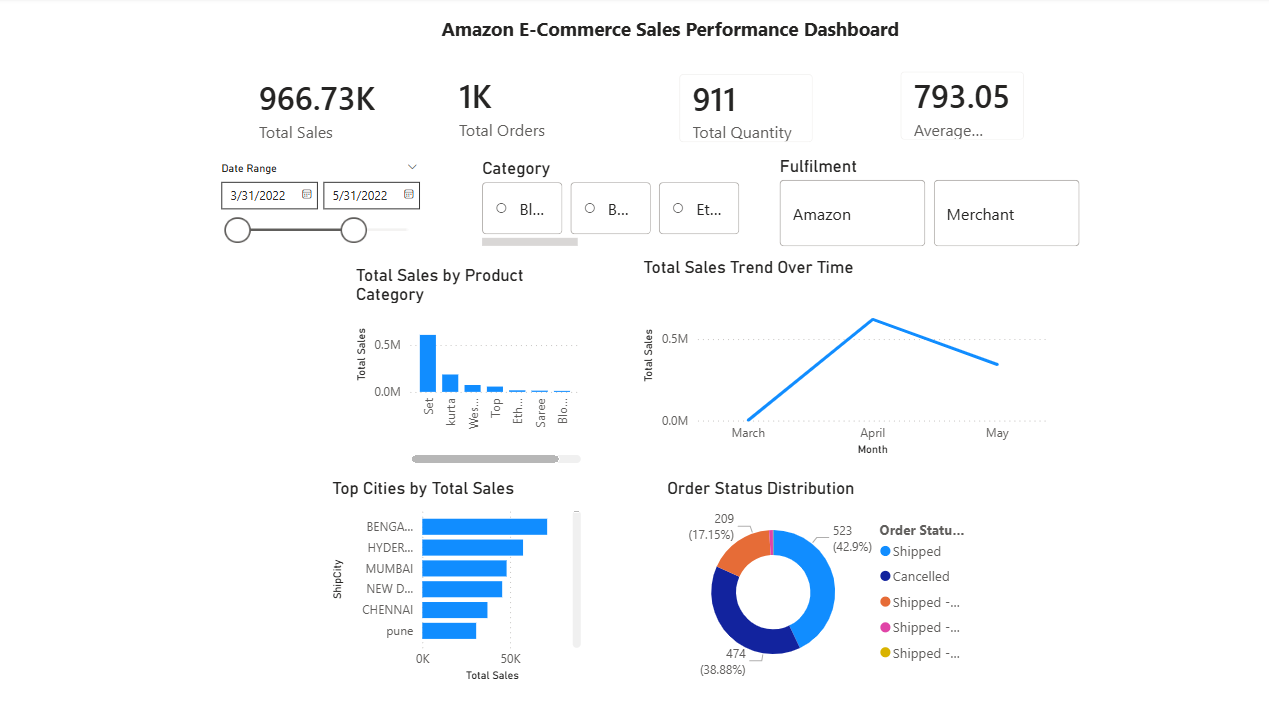

Layout of this report page (visuals, bound fields, positions):
{"tool":"powerbi","page":{"name":"Page 1","canvas":[1280,720],"ordinal":0},"visuals":[{"type":"clusteredColumnChart","title":"Total Sales by Product Category","fields":{"Category":["Amazon Sale Report.Category"],"Y":["Amazon Sale Report.Total Sales"]},"box":[353.3,266.2,233.9,202.8],"z":1000},{"type":"lineChart","title":"Total Sales Trend Over Time","fields":{"Y":["Amazon Sale Report.Total Sales"],"Category":["Amazon Sale Report.Date.Variation.Date Hierarchy.Month"]},"box":[639.4,258.7,411.8,202.8],"z":2000},{"type":"donutChart","title":"Order Status Distribution","fields":{"Category":["Amazon Sale Report.Status"],"Y":["Amazon Sale Report.Total Orders"]},"box":[663,478.9,312.2,207.7],"z":4000},{"type":"textbox","box":[431.7,13.7,478.9,47.3],"z":5000},{"type":"slicer","fields":{"Values":["Amazon Sale Report.Date"]},"box":[211.5,159.2,220.2,94.5],"z":6002},{"type":"advancedSlicerVisual","fields":{"Values":["Amazon Sale Report.Category"]},"box":[478.9,160.5,268.7,94.5],"z":6003},{"type":"cardVisual","fields":{"Data":["Amazon Sale Report.Total Sales"]},"box":[232.6,59.7,192.8,103.2],"z":6004},{"type":"cardVisual","fields":{"Data":["Amazon Sale Report.Total Orders"]},"box":[431.7,57.2,155.5,104.5],"z":6005},{"type":"cardVisual","fields":{"Data":["Amazon Sale Report.Total Quantity"]},"box":[663,59.7,167.9,102],"z":6006},{"type":"cardVisual","fields":{"Data":["Amazon Sale Report.Average Order Value"]},"box":[883.2,57.2,158,102],"z":6007},{"type":"advancedSlicerVisual","fields":{"Values":["Amazon Sale Report.Fulfilment"]},"box":[775,158,308.5,95.8],"z":6008},{"type":"clusteredBarChart","title":"Top Cities by Total Sales","fields":{"Y":["Amazon Sale Report.Total Sales"],"Category":["Amazon Sale Report.ShipCity"]},"box":[329.6,478.9,257.5,207.7],"z":6009}]}

Visuals, with their boxes in screenshot pixels (x1, y1, x2, y2), scaled from the page's 1280x720 canvas onto the 1269x717 screenshot:
"Total Sales by Product Category" clusteredColumnChart: Rect(350, 265, 582, 467)
"Total Sales Trend Over Time" lineChart: Rect(634, 258, 1042, 460)
"Order Status Distribution" donutChart: Rect(657, 477, 967, 684)
textbox: Rect(428, 14, 903, 61)
slicer - Amazon Sale Report.Date: Rect(210, 159, 428, 253)
advancedSlicerVisual - Amazon Sale Report.Category: Rect(475, 160, 741, 254)
cardVisual - Amazon Sale Report.Total Sales: Rect(231, 59, 422, 162)
cardVisual - Amazon Sale Report.Total Orders: Rect(428, 57, 582, 161)
cardVisual - Amazon Sale Report.Total Quantity: Rect(657, 59, 824, 161)
cardVisual - Amazon Sale Report.Average Order Value: Rect(876, 57, 1032, 159)
advancedSlicerVisual - Amazon Sale Report.Fulfilment: Rect(768, 157, 1074, 253)
"Top Cities by Total Sales" clusteredBarChart: Rect(327, 477, 582, 684)
